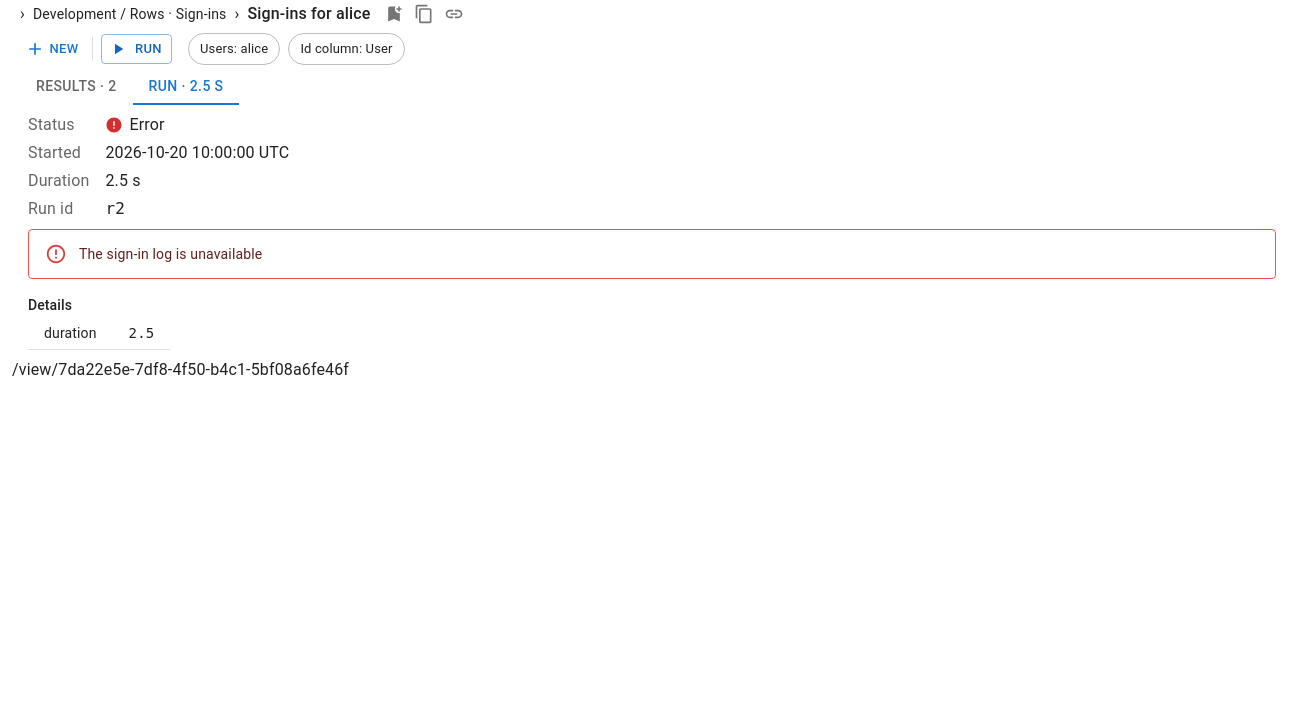
Scenario: ActionTab › keeps the last good results under a note after a failure
Click the tab "Results · 2" at (76, 87), box left=20, top=69, right=133, bottom=105
(page scrolled)
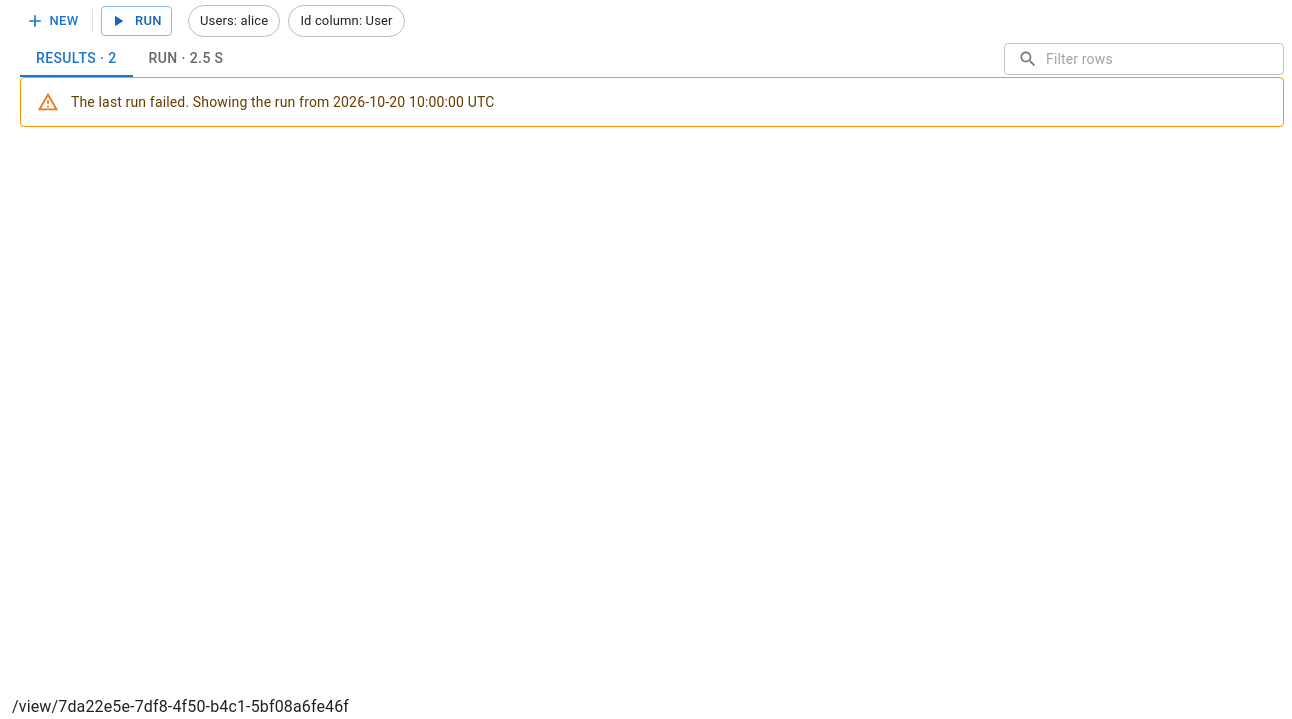
Check: the text "The last run failed. Showing the run from 2026-10-20 10:00:00 UTC" is shown, box left=71, top=94, right=494, bottom=110
